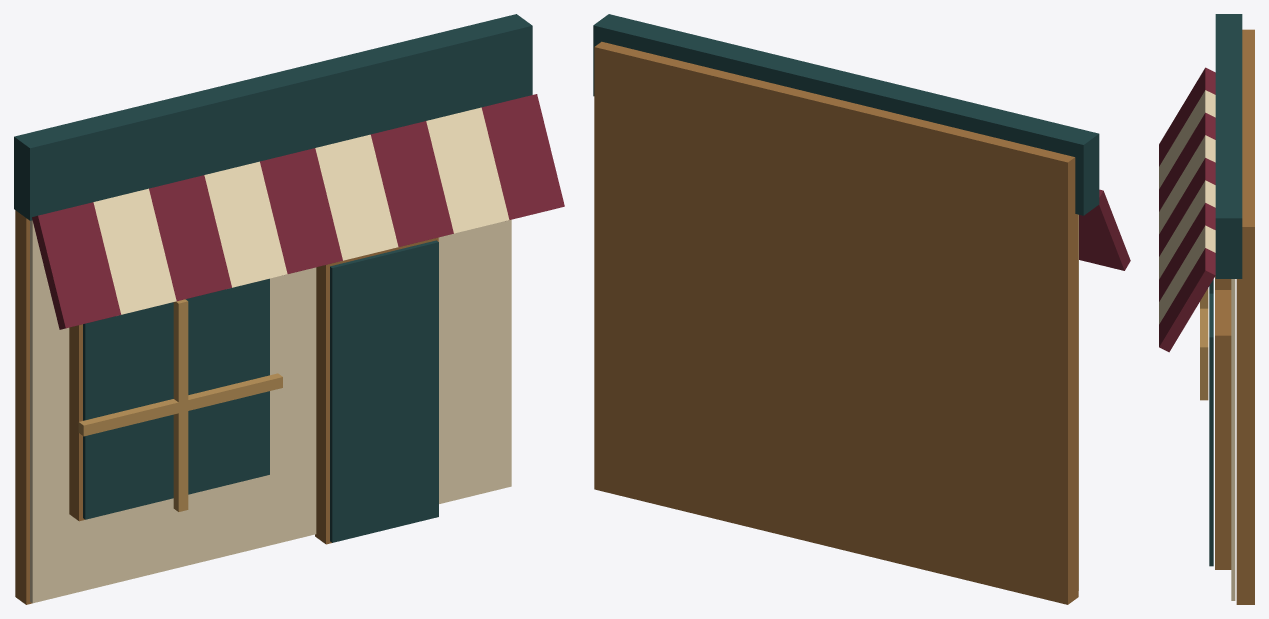
The model's file is storefront.glb.
3 renders of one model, left to right at view 1: azimuth 30°, elevation 25°; view 2: azimuth 150°, elevation 25°; view 3: azimuth 270°, elevation 25°, orthographic. The views are drawn at different scales.
Parts seen in each view (by area): view 1: facade-face, sign, window-face, door-face, awning-0, awning-5, awning-2, awning-3, awning-8, awning-1, awning-6, awning-7 (+6 smaller); view 2: facade-corrugation, sign, awning-0; view 3: facade-corrugation, sign, door-corrugation, awning-8, facade-face, door-face, awning-5, awning-4, awning-6, awning-3, awning-0, awning-2 (+5 smaller).
Part boxes in pixels (bbox=[...]): facade-face: bbox=[30, 219, 511, 603]; sign: bbox=[14, 14, 532, 220]; window-face: bbox=[83, 278, 269, 519]; door-face: bbox=[330, 240, 438, 542]; awning-0: bbox=[32, 202, 121, 329]; awning-5: bbox=[315, 134, 398, 260]; awning-2: bbox=[149, 175, 231, 301]; awning-3: bbox=[204, 161, 287, 287]; awning-8: bbox=[481, 94, 564, 219]; awning-1: bbox=[93, 188, 176, 314]; awning-6: bbox=[370, 121, 453, 246]; awning-7: bbox=[426, 107, 509, 233]; facade-corrugation: bbox=[594, 41, 1078, 604]; sign: bbox=[593, 14, 1099, 215]; awning-0: bbox=[1079, 189, 1130, 270]; facade-corrugation: bbox=[1236, 29, 1254, 604]; sign: bbox=[1215, 14, 1242, 278]; door-corrugation: bbox=[1215, 290, 1231, 569]; awning-8: bbox=[1159, 248, 1215, 352]; facade-face: bbox=[1231, 279, 1235, 600]; door-face: bbox=[1209, 293, 1213, 566]; awning-5: bbox=[1159, 180, 1215, 279]; awning-4: bbox=[1159, 158, 1215, 256]; awning-6: bbox=[1159, 203, 1215, 301]; awning-3: bbox=[1159, 135, 1215, 233]; awning-0: bbox=[1159, 67, 1215, 166]; awning-2: bbox=[1159, 112, 1215, 211].
Bounding box in the file's own units: 2.9 × 2.58 × 0.5747.
